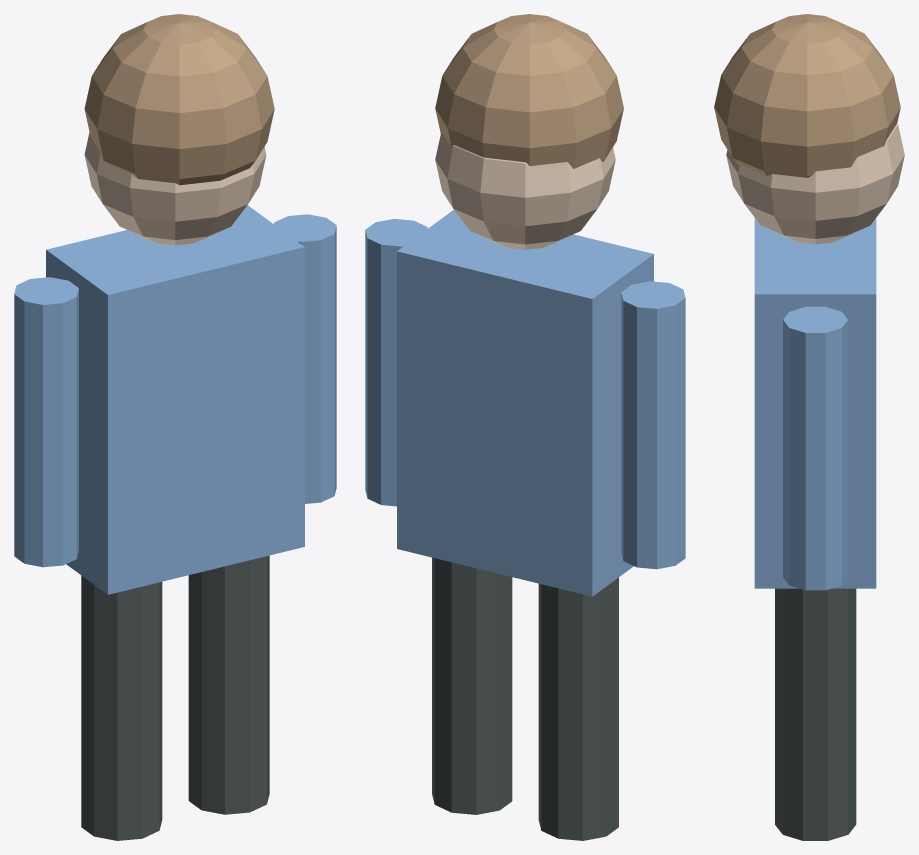
File: customer_2.glb
3 renders of one model, left to right at view 1: azimuth 30°, elevation 25°; view 2: azimuth 150°, elevation 25°; view 3: azimuth 270°, elevation 25°, orthographic.
Parts seen in each view (by area): view 1: torso.003, hair.002, leg_-0.003, leg_0.003, arm_-0.003, arm_0.003, head.003; view 2: torso.003, hair.002, leg_-0.003, leg_0.003, arm_-0.003, head.003, arm_0.003; view 3: torso.003, hair.002, leg_0.003, arm_0.003, head.003.
Boxes of the visible parts, x1,y1,x2,y2 form: torso.003: [46, 205, 304, 594]; hair.002: [84, 14, 274, 185]; leg_-0.003: [81, 575, 162, 840]; leg_0.003: [188, 555, 269, 814]; arm_-0.003: [14, 277, 78, 567]; arm_0.003: [274, 214, 336, 503]; head.003: [84, 132, 266, 245]; torso.003: [397, 210, 653, 596]; hair.002: [435, 14, 623, 168]; leg_-0.003: [538, 577, 618, 840]; leg_0.003: [432, 557, 512, 814]; arm_-0.003: [621, 281, 685, 569]; head.003: [435, 131, 615, 249]; arm_0.003: [365, 219, 427, 506]; torso.003: [754, 218, 876, 588]; hair.002: [714, 14, 900, 177]; leg_0.003: [775, 588, 856, 840]; arm_0.003: [783, 306, 847, 590]; head.003: [726, 123, 904, 244].
Size of the model in its own units: 0.8722 by 2.11 by 0.47.
